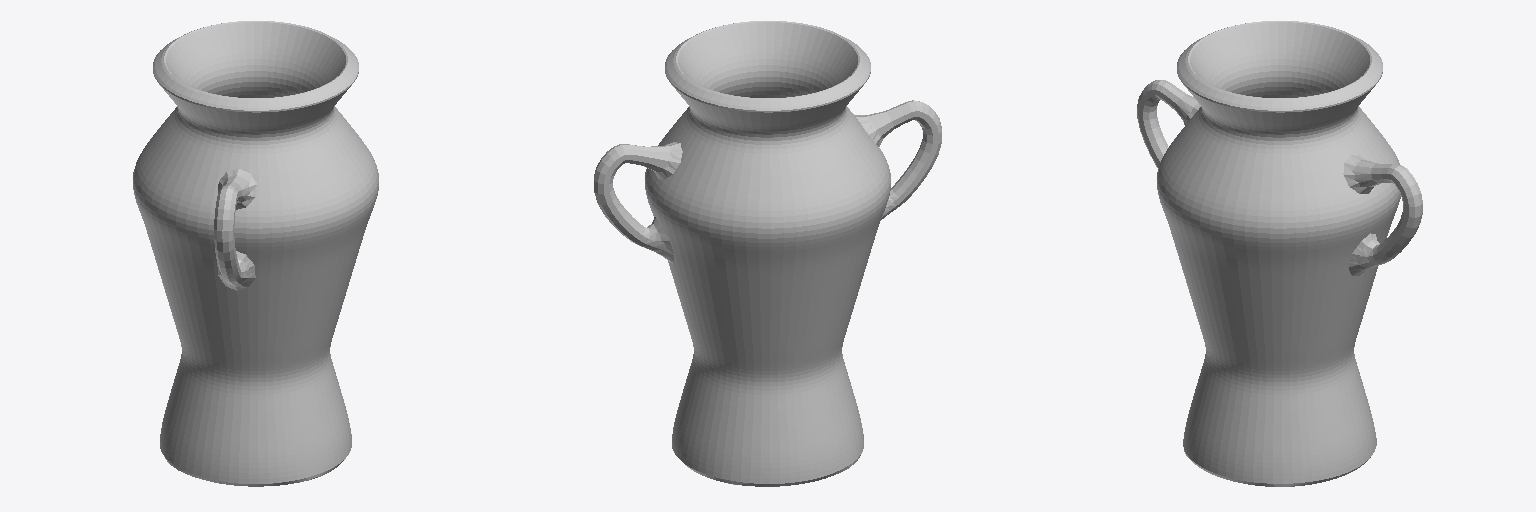
File: bigvase.obj
3 renders of one model, left to right at view 1: azimuth 30°, elevation 25°; view 2: azimuth 150°, elevation 25°; view 3: azimuth 270°, elevation 25°, orthographic.
Parts seen in each view (by area): view 1: vase1:Mesh vase2, vase2 vase1:group2; view 2: vase1:Mesh vase2, vase2 vase1:group2; view 3: vase1:Mesh vase2, vase2 vase1:group2.
Part boxes in pixels (bbox=[...]): vase1:Mesh vase2: bbox=[133, 21, 378, 478]; vase2 vase1:group2: bbox=[160, 175, 351, 486]; vase1:Mesh vase2: bbox=[645, 21, 890, 478]; vase2 vase1:group2: bbox=[594, 100, 941, 486]; vase1:Mesh vase2: bbox=[1157, 21, 1400, 478]; vase2 vase1:group2: bbox=[1137, 80, 1422, 486].
Bounding box in the file's own units: 1.51 × 2.66 × 1.75.